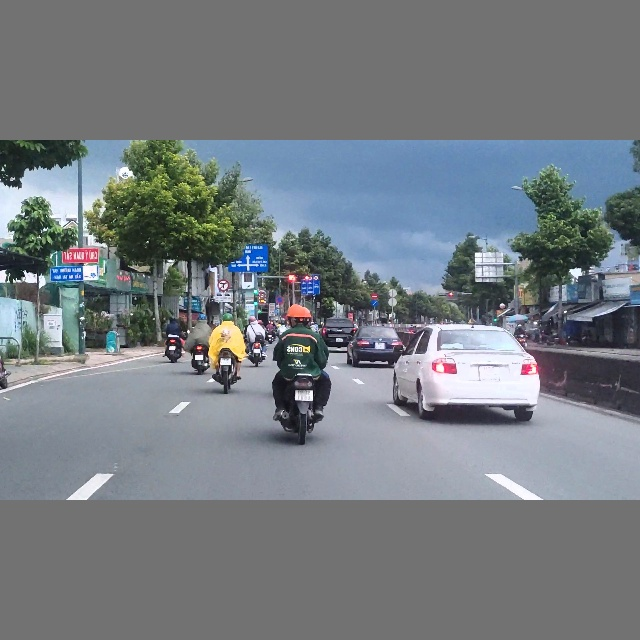P.102: (371, 293, 378, 299)
P.131a: (276, 296, 284, 303)
P.137: (217, 279, 230, 291)
R.302a: (371, 300, 379, 306)
R.415a: (301, 280, 320, 295)
